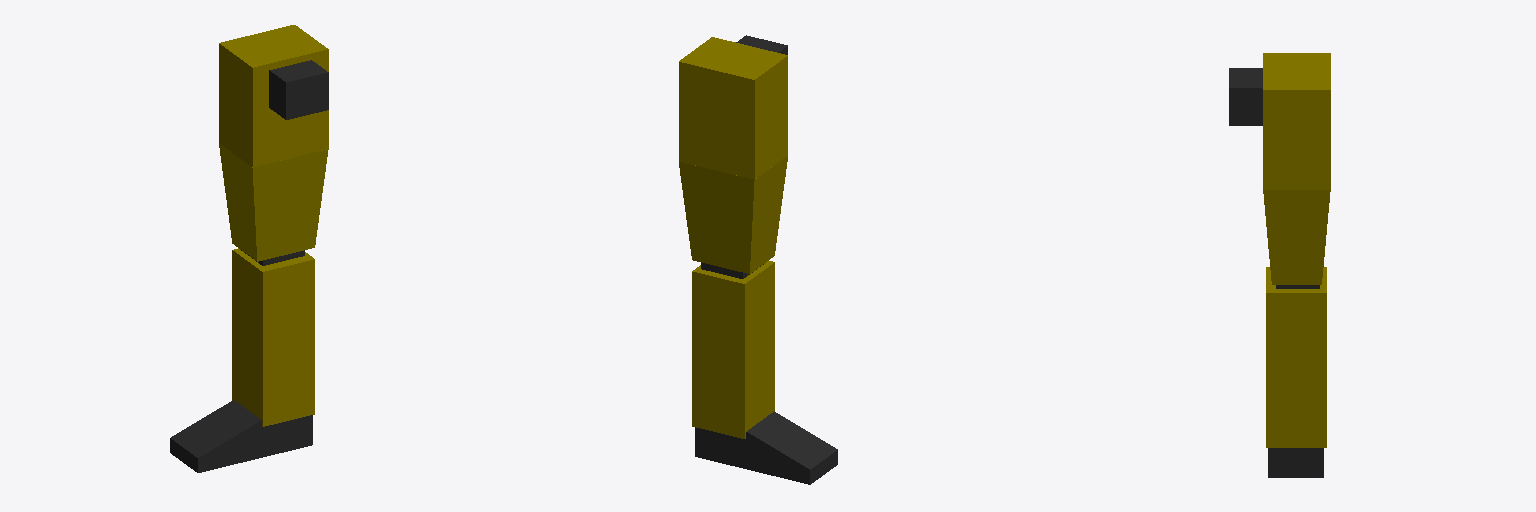
3 views of the same model, side by side, from view 1: azimuth 30°, elevation 25°; view 2: azimuth 150°, elevation 25°; view 3: azimuth 270°, elevation 25° (orthographic).
Visible parts, largest first — view 1: RightLeg; view 2: RightLeg; view 3: RightLeg.
Part boxes in pixels (x1,y1,x2,y2): RightLeg: (170,25,328,472); RightLeg: (679,35,837,484); RightLeg: (1229,53,1330,477).
Size of the model in its own units: 0.6086 by 1.79 by 0.4165.
1 materials, 1 textured.